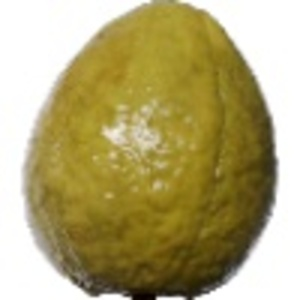goiaba: (12, 5, 281, 292)
